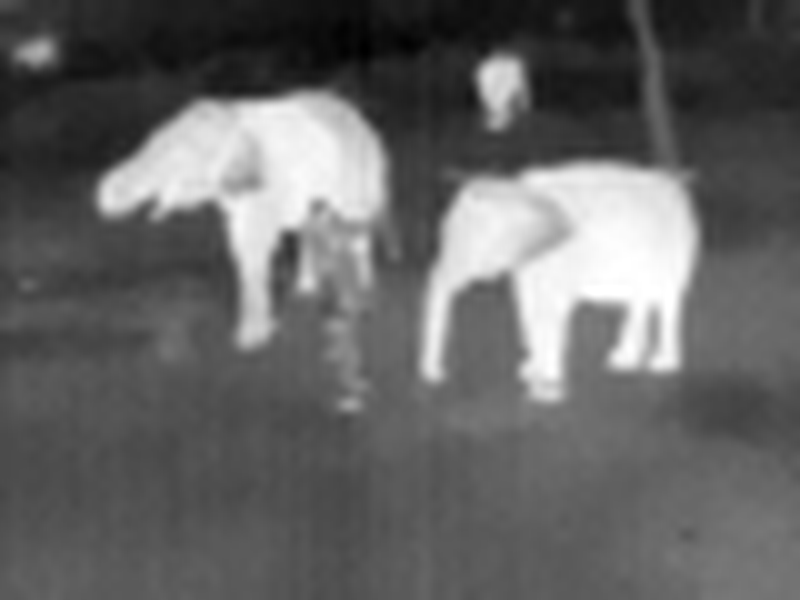elephant: (100, 79, 390, 364), (441, 159, 706, 394), (459, 36, 556, 137)
